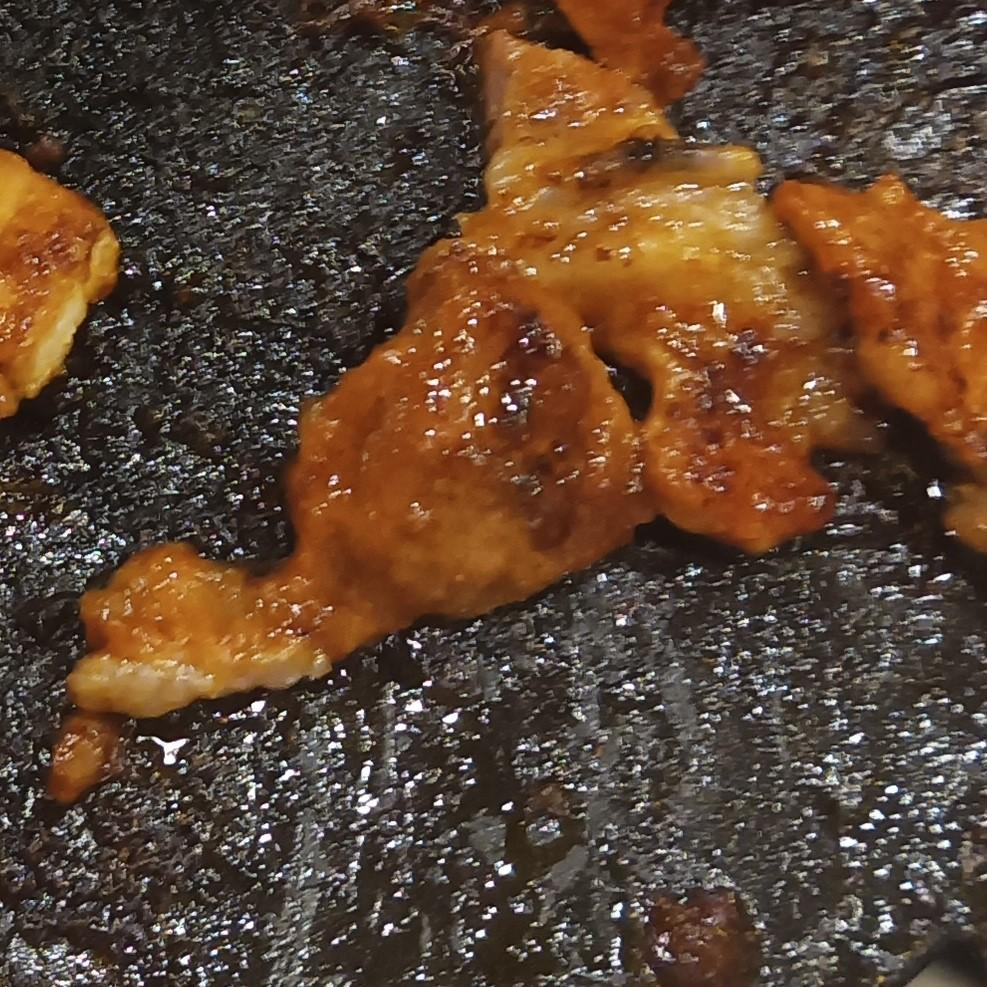Well-Cooked: (51, 0, 986, 800), (0, 149, 120, 419)
